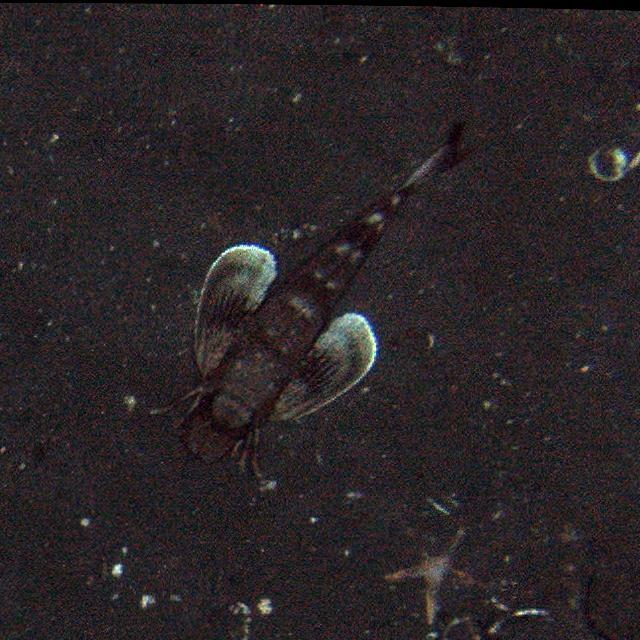roundfish: (143, 132, 466, 488)
